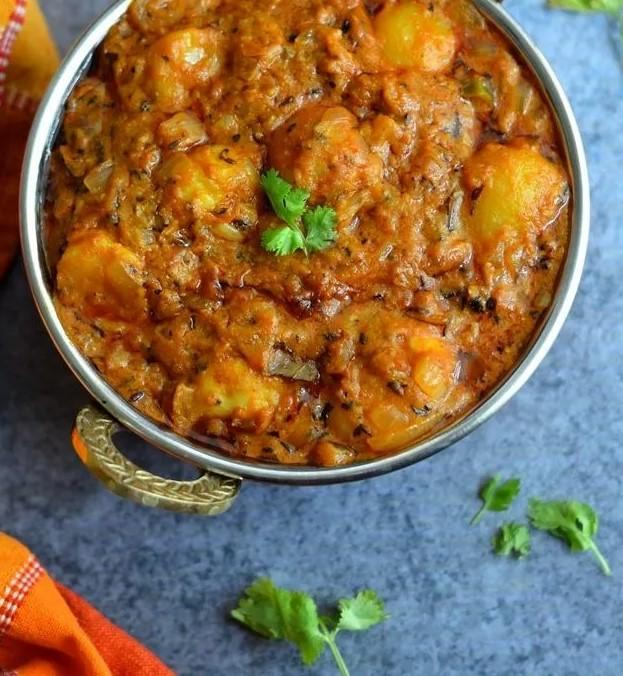DumAloo: (45, 0, 576, 467)
